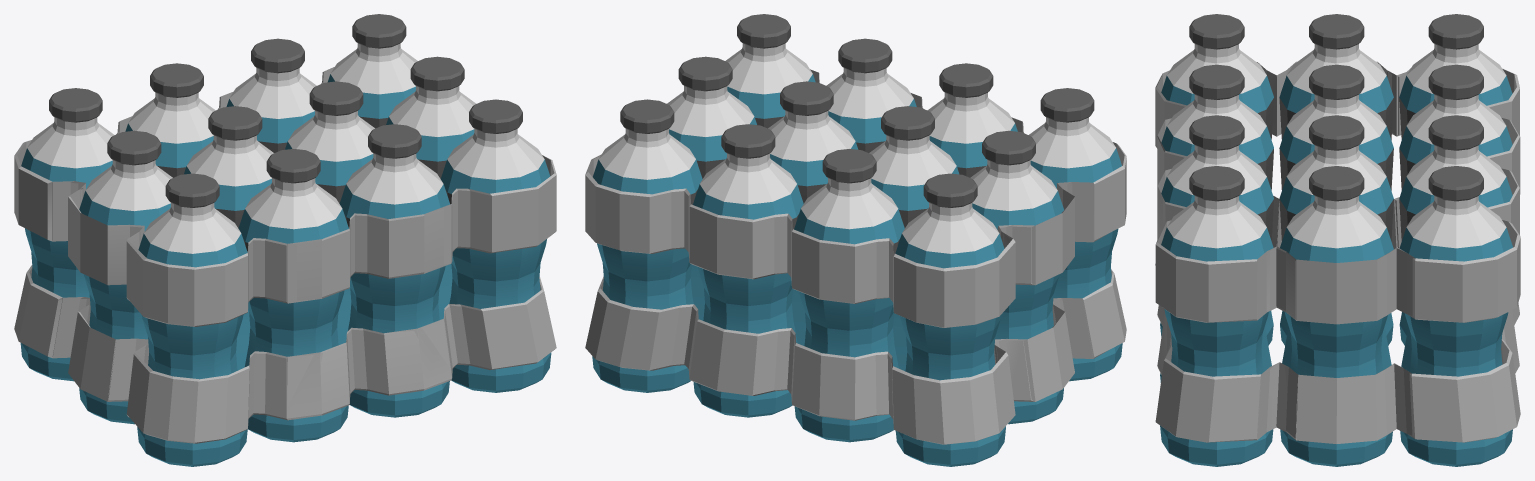
Rendered from water_pakket.fbx.
3 views of the same model, side by side, from view 1: azimuth 30°, elevation 25°; view 2: azimuth 150°, elevation 25°; view 3: azimuth 270°, elevation 25° (orthographic). The views are drawn at different scales.
Parts seen in each view (by area): view 1: waterbottles_joined; view 2: waterbottles_joined; view 3: waterbottles_joined.
Boxes of the visible parts, x1,y1,x2,y2 form: waterbottles_joined: [14, 14, 556, 466]; waterbottles_joined: [585, 14, 1126, 466]; waterbottles_joined: [1155, 14, 1520, 466].
Size of the model in its own units: 122 by 74.7 by 91.54.
